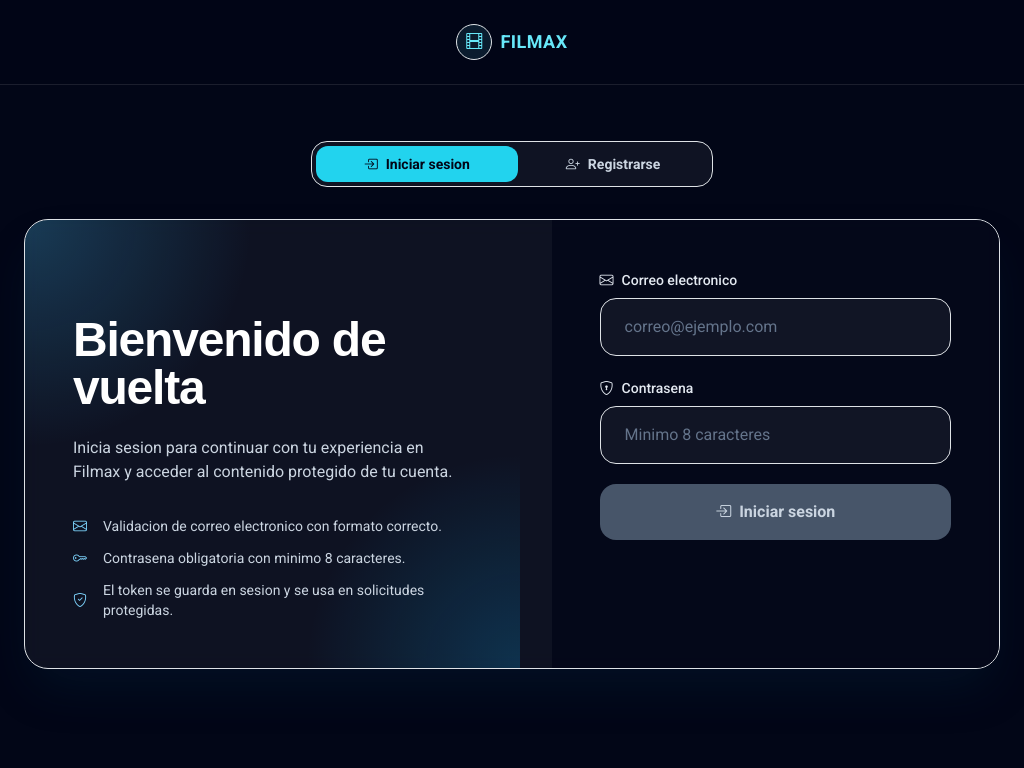
FRQA-01 - Cypress E2E de toda la aplicación › permite alternar entre iniciar sesión y registrarse
The width and height of the screenshot is (1024, 768).
Click the button with test id "auth-register-tab" at {"x": 613, "y": 164}, box [518,146,708,182]
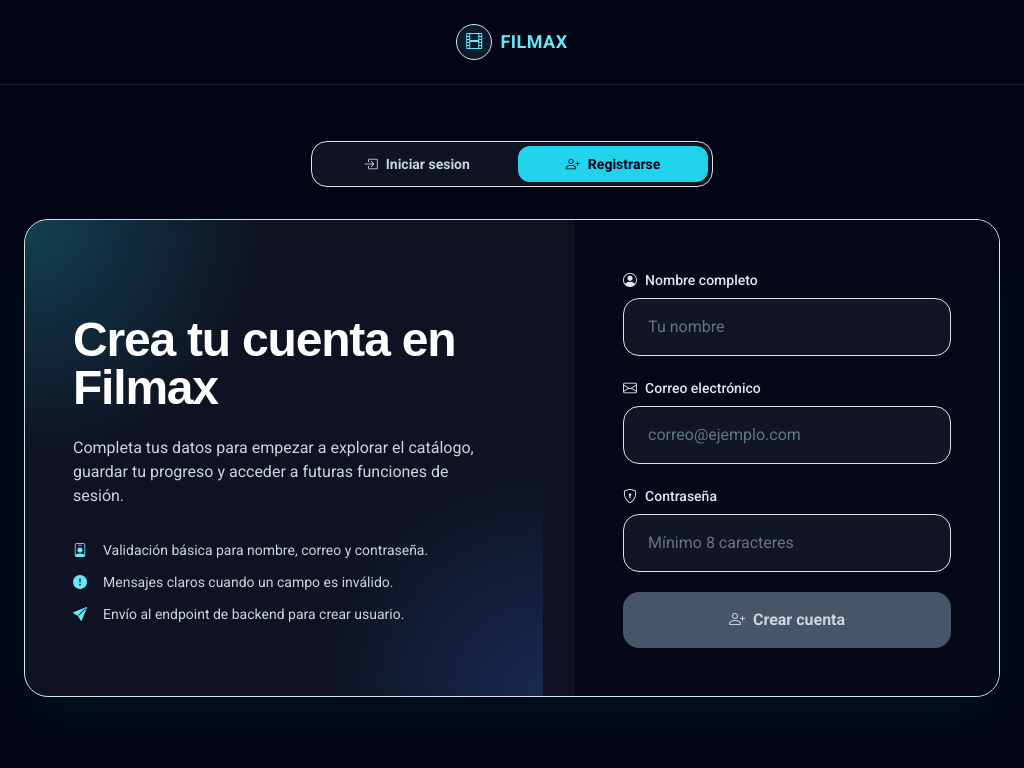
expect the heading "Crea tu cuenta en Filmax" is shown: met, box [73,316,495,412]
expect the field with test id "register-name" is shown: met, box [623,298,951,356]
Click the button with test id "auth-login-tab" at {"x": 417, "y": 164}, box [316,146,518,182]
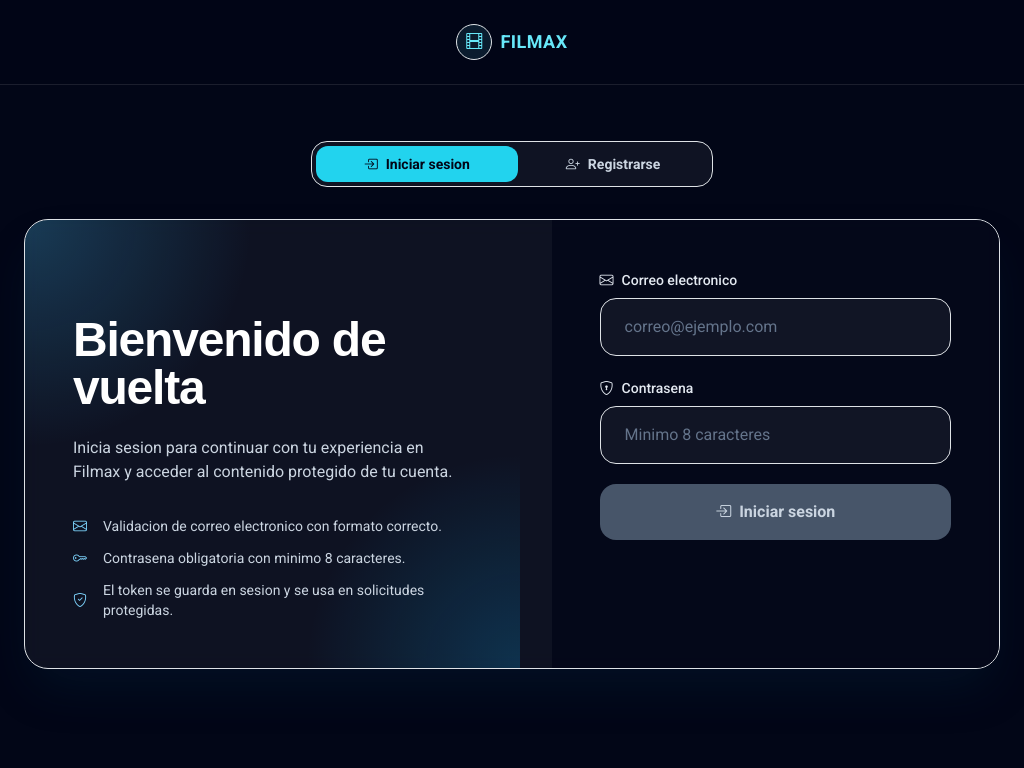
expect the heading "Bienvenido de vuelta" is shown: met, box [73,313,386,414]
expect the field with test id "login-email" is shown: met, box [600,298,951,356]
